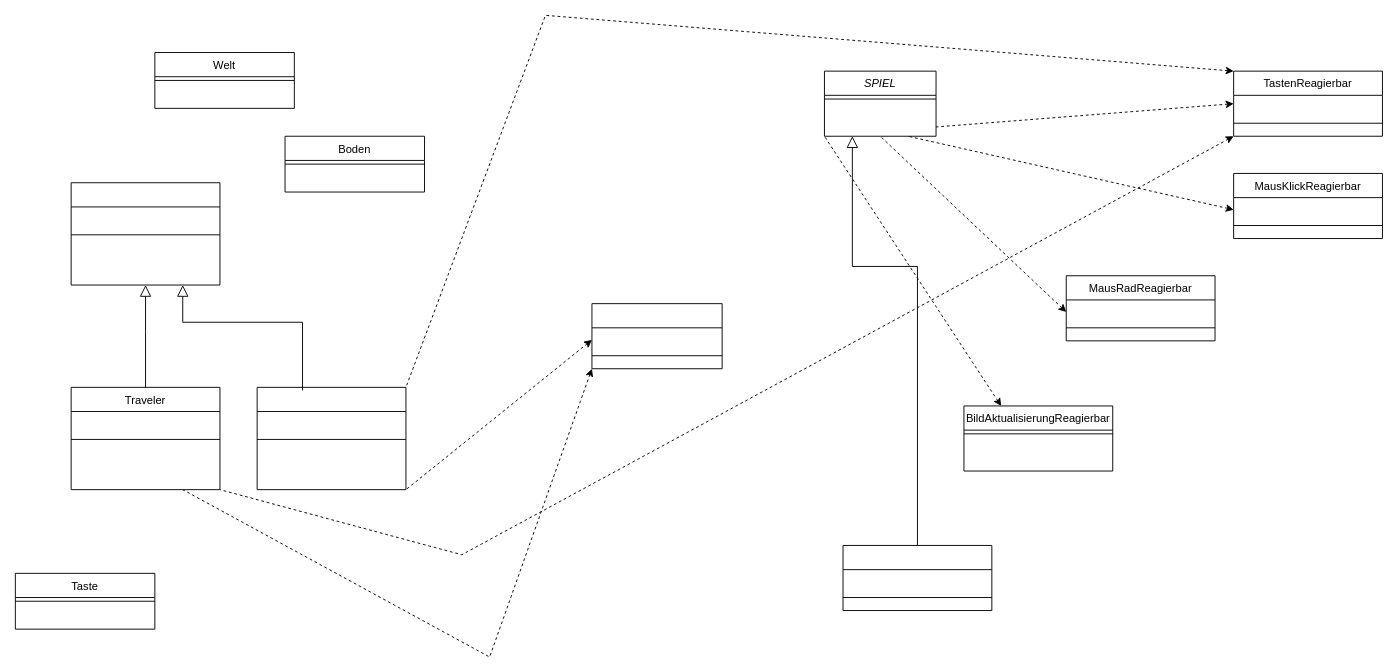
This 1398x672 diagram has some shape labels left out. The centre of each missing label's shape, as x and y in pixels:
Enemy: point 331,438
FIGUR: point 145,233
meinSpiel: point 917,578
Ticker: point 656,336
